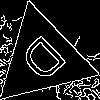D: (18, 33, 75, 91)
